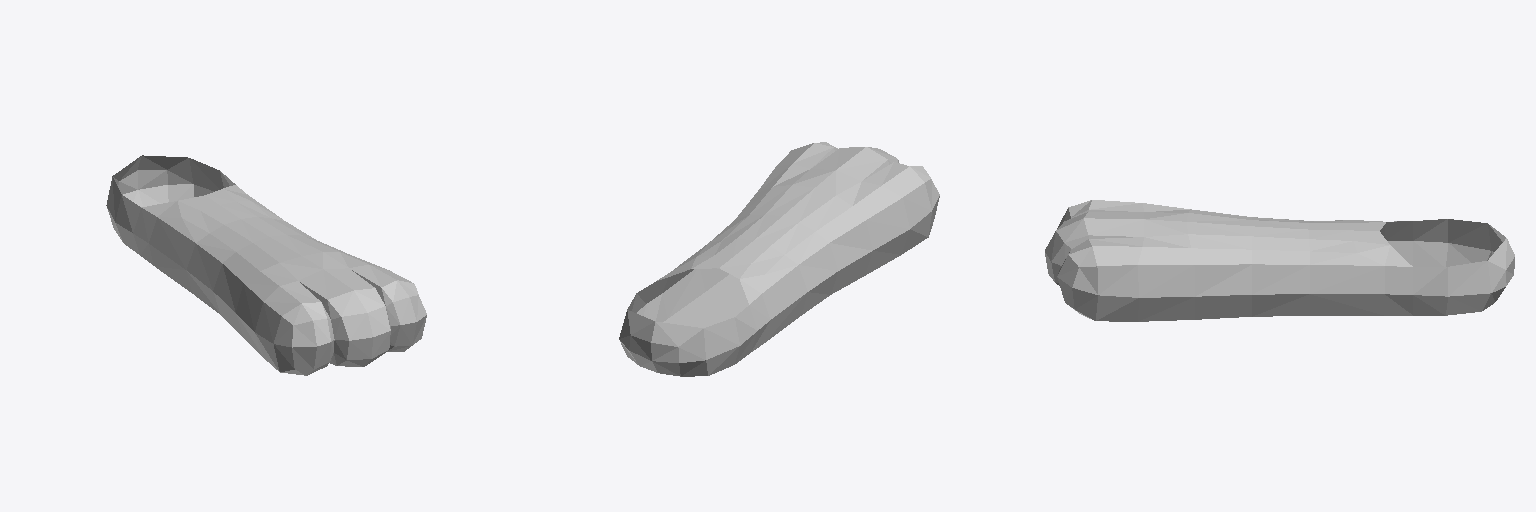
Rendered from foot_L.obj.
3 views of the same model, side by side, from view 1: azimuth 30°, elevation 25°; view 2: azimuth 150°, elevation 25°; view 3: azimuth 270°, elevation 25° (orthographic).
Visible parts, largest first — view 1: Meowth; view 2: Meowth; view 3: Meowth.
Boxes of the visible parts, box(x1,y1,x2,y2) form: Meowth: box(106, 155, 426, 375); Meowth: box(619, 142, 939, 376); Meowth: box(1045, 200, 1514, 321).
Size of the model in its own units: 5.4 by 2.64 by 15.02.